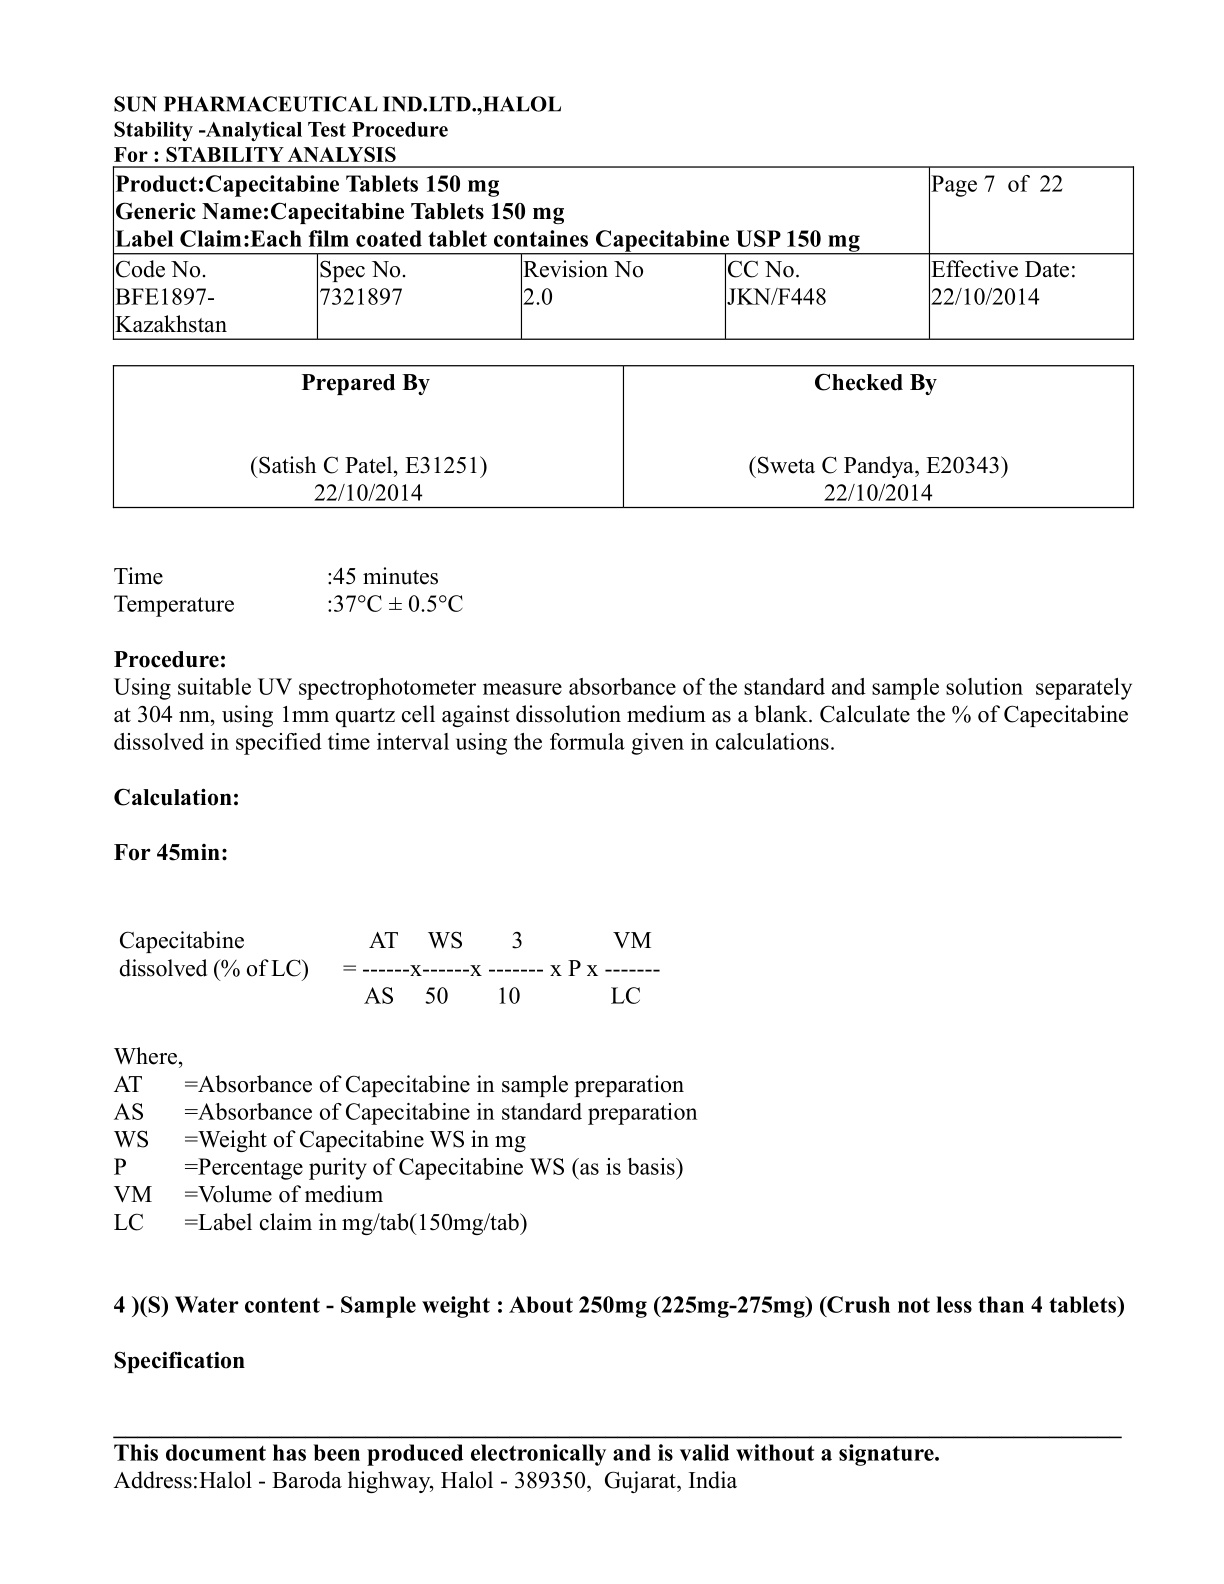full_lined: (111, 363, 1137, 510)
merged_cells: (111, 165, 1135, 341)
nolines: (112, 564, 465, 618)
